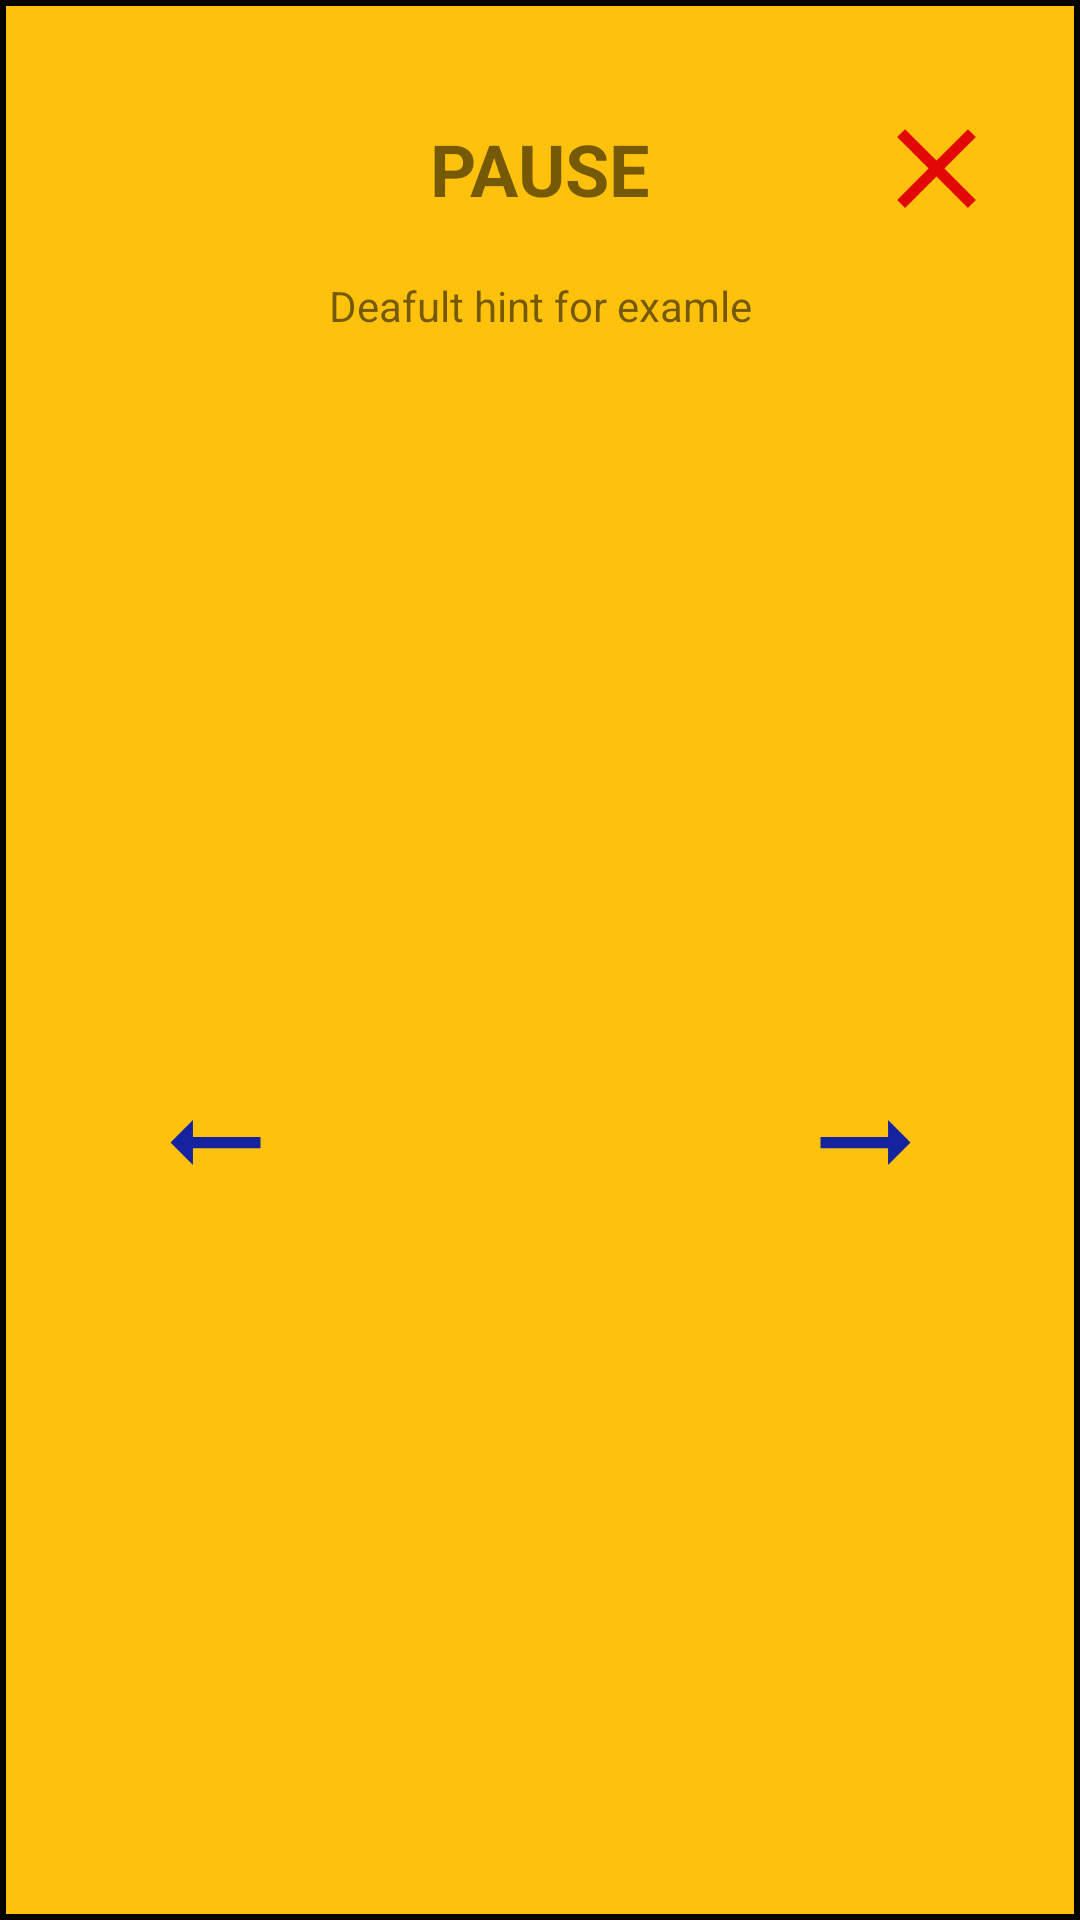

Where icons sit on this 1080px x 1920px app screen, as (x1, y1, x2, y2):
arrow to get the next hint for the dialog pause: (820, 1120, 911, 1165)
closing button for the pause dialog: (897, 129, 976, 208)
